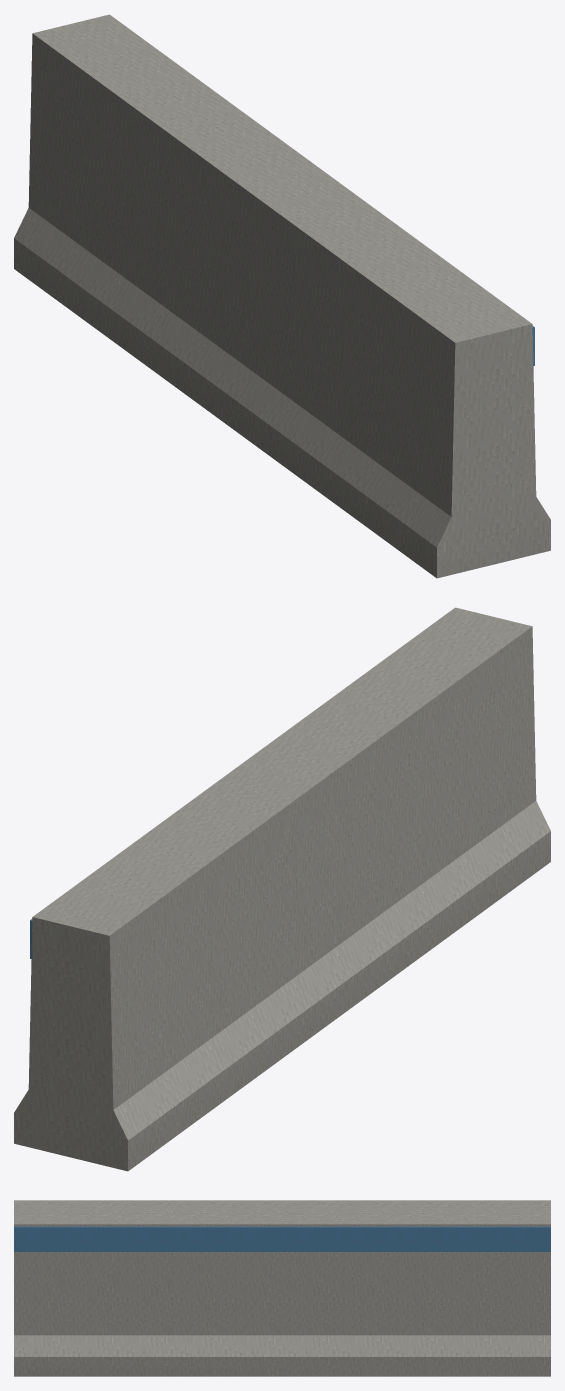
The model's file is concrete-wall_far.glb.
3 renders of one model, top to bottom at view 1: azimuth 30°, elevation 25°; view 2: azimuth 150°, elevation 25°; view 3: azimuth 270°, elevation 25°, orthographic. The views are drawn at different scales.
Parts seen in each view (by area): view 1: concrete; view 2: concrete; view 3: concrete, paint-band.
Part boxes in pixels (x1,y1,x2,y2): concrete: (14,14,550,578); concrete: (14,607,550,1171); concrete: (14,1200,550,1376); paint-band: (14,1226,550,1251).
Bounding box in the file's own units: 0.62 × 1.2 × 3.98.
Materials: 2 (2 with a texture image).
